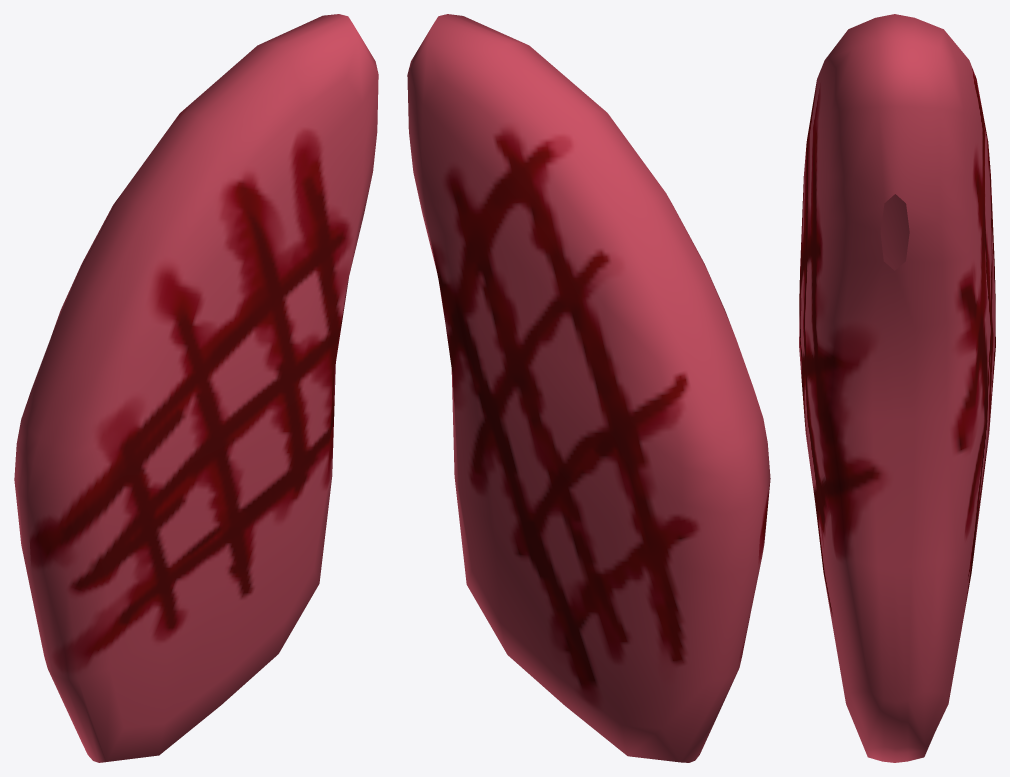
The model's file is Recipe_GrilledLung.fbx.
3 views of the same model, side by side, from view 1: azimuth 30°, elevation 25°; view 2: azimuth 150°, elevation 25°; view 3: azimuth 270°, elevation 25° (orthographic). The views are drawn at different scales.
Visible parts, largest first — view 1: Lung1; view 2: Lung1; view 3: Lung1.
Boxes of the visible parts, x1,y1,x2,y2 form: Lung1: (14, 14, 378, 762); Lung1: (407, 14, 770, 762); Lung1: (799, 14, 995, 762).
Size of the model in its own units: 4.13 by 7.87 by 1.66.
